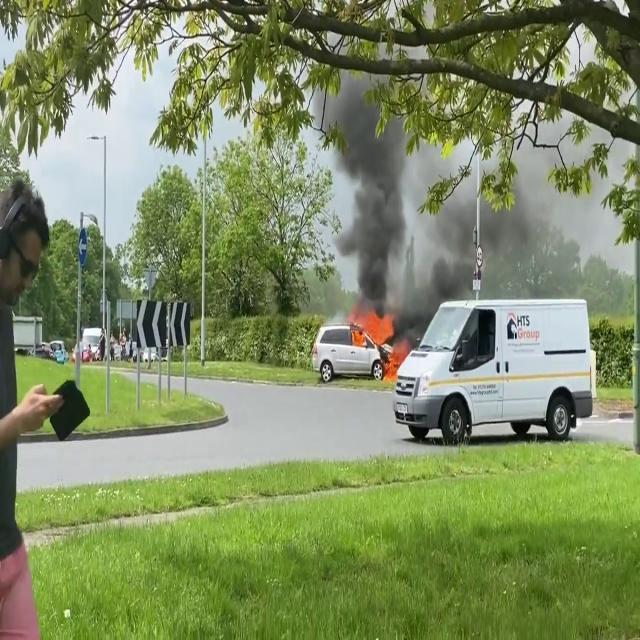Fire: (348, 307, 398, 349)
Smoke: (322, 82, 578, 320)
